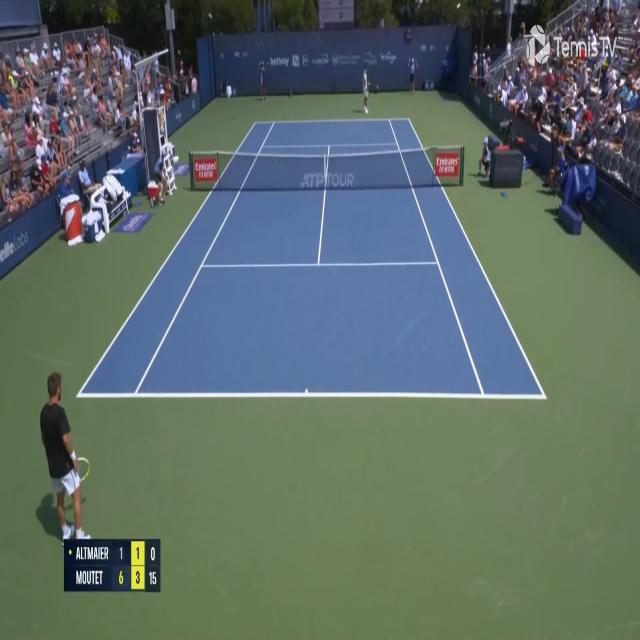tennis-player: (37, 366, 96, 547), (361, 64, 372, 116)
